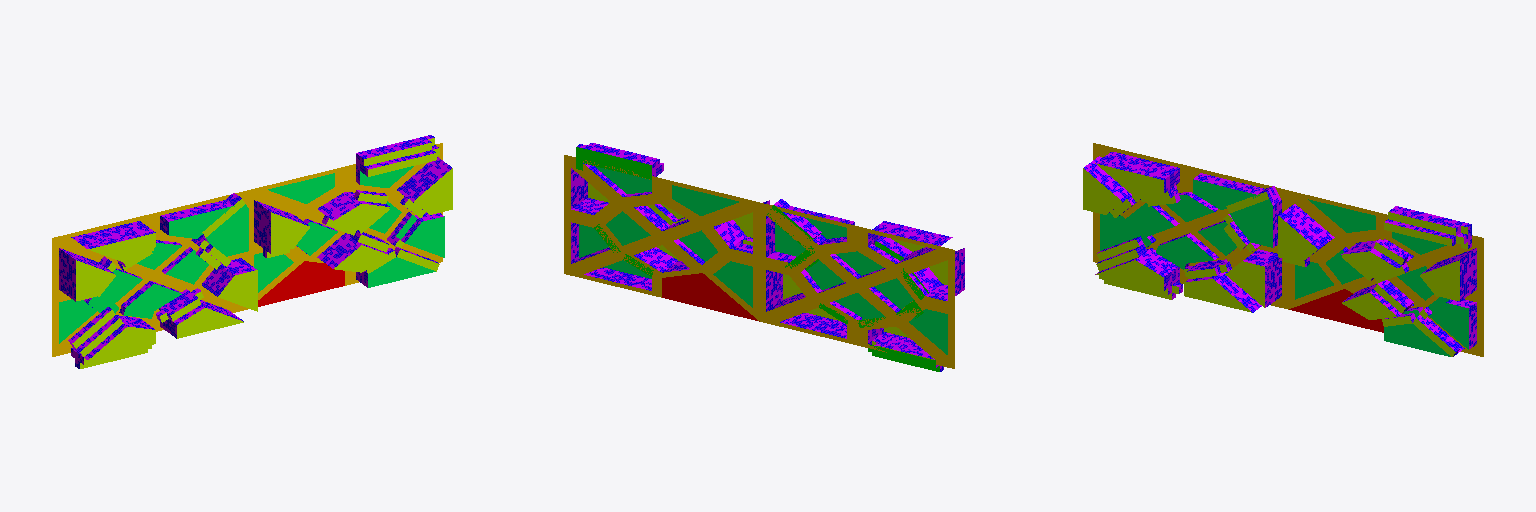
The model's file is my_city3b.obj.
3 renders of one model, left to right at view 1: azimuth 30°, elevation 25°; view 2: azimuth 150°, elevation 25°; view 3: azimuth 330°, elevation 25°, orthographic.
Visible parts, largest first — view 1: construct_up, roof, road, brick, frame, glass, plaza; view 2: road, roof, brick, construct_down, frame, glass, plaza, construct_up; view 3: construct_up, roof, road, brick, frame, glass, plaza.
Part boxes in pixels (x1,y1,x2,y2): construct_up: (72, 138, 452, 368); roof: (59, 166, 444, 343); road: (52, 143, 442, 356); brick: (59, 136, 449, 364); frame: (59, 135, 451, 368); glass: (59, 135, 451, 367); plaza: (258, 261, 344, 306); road: (564, 155, 954, 368); roof: (579, 166, 947, 354); brick: (571, 143, 964, 368); construct_down: (576, 147, 939, 371); frame: (571, 143, 964, 371); glass: (571, 143, 964, 370); plaza: (662, 273, 759, 321); construct_up: (588, 183, 947, 359); construct_up: (1083, 163, 1467, 356); roof: (1100, 179, 1468, 356); road: (1093, 143, 1483, 356); brick: (1085, 152, 1476, 352); frame: (1084, 152, 1476, 354); glass: (1084, 152, 1476, 356); plaza: (1289, 289, 1383, 332).
Bounding box in the file's own units: 274 × 94.5 × 20.